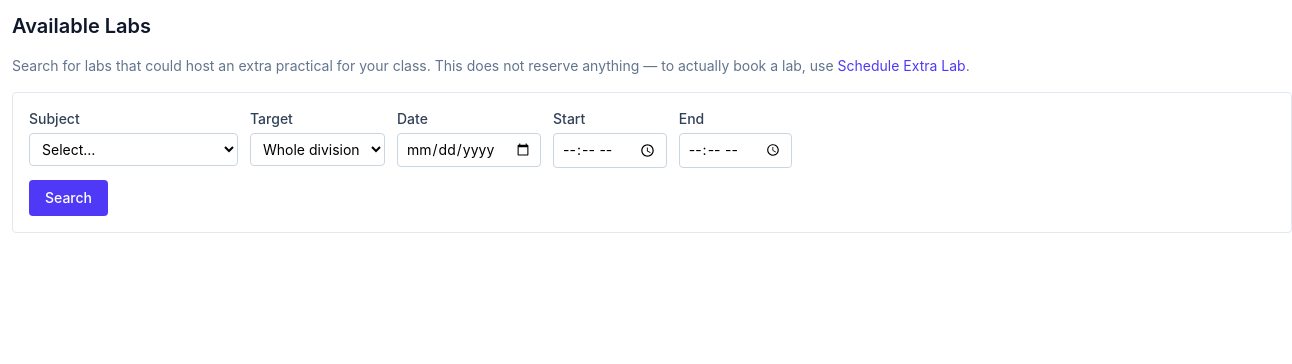
AvailableLabsPage - PART 61/62/63/64/65 (mandatory scenarios) › PART 65 - explains a same-lab conflict with an existing booking
Select "BDA — Big Data Analytics" in the dropdown labelled "Subject": x=134, y=150 [29, 133, 238, 166]
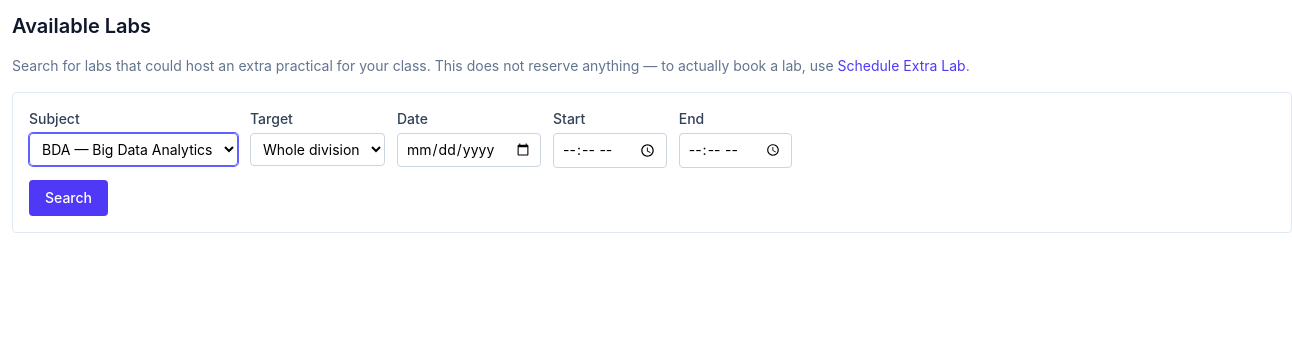
In the date field labelled "Date": x=469, y=150 [397, 133, 541, 167], type "2026-08-31"
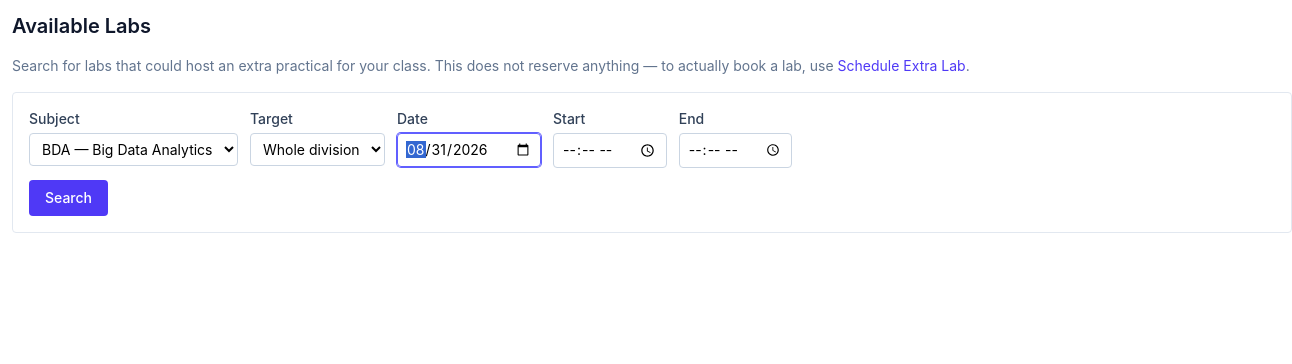
In the time field labelled "Start": x=610, y=150 [553, 133, 667, 168], type "09:00"
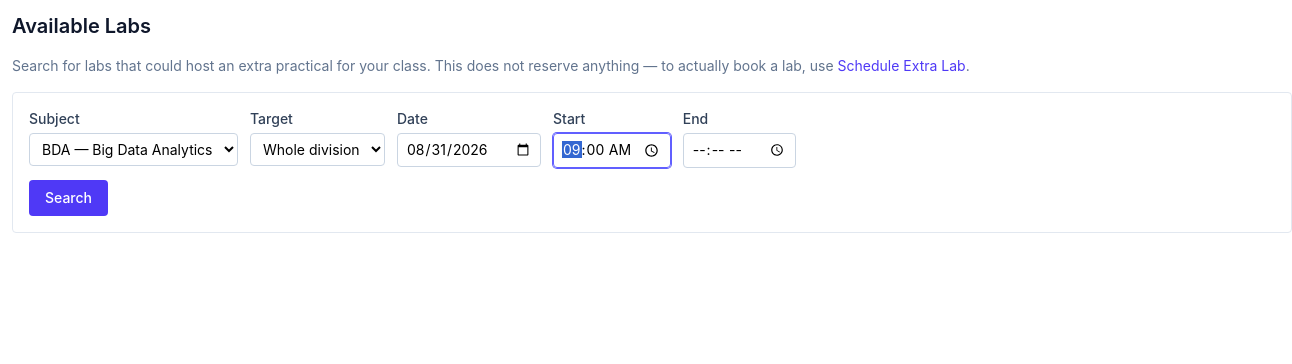
In the time field labelled "End": x=740, y=150 [683, 133, 796, 168], type "11:00"
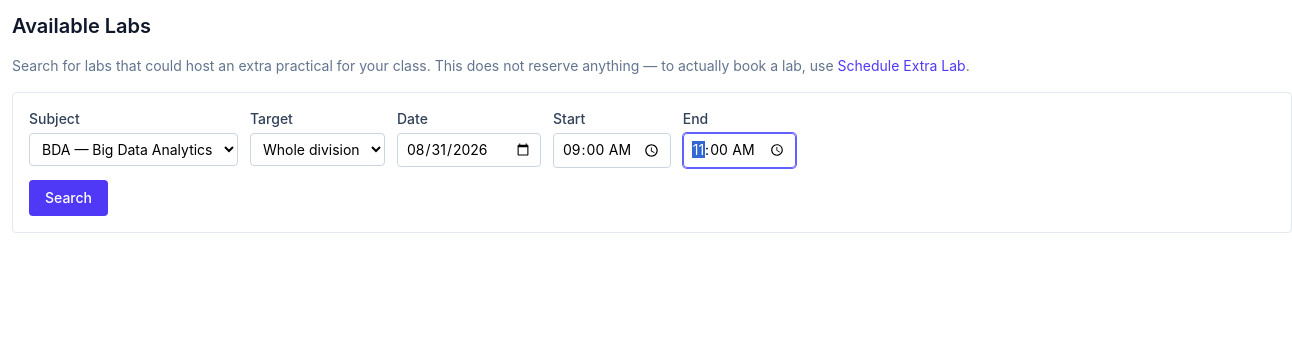
Click the button "Search": x=68, y=198 [29, 180, 108, 216]
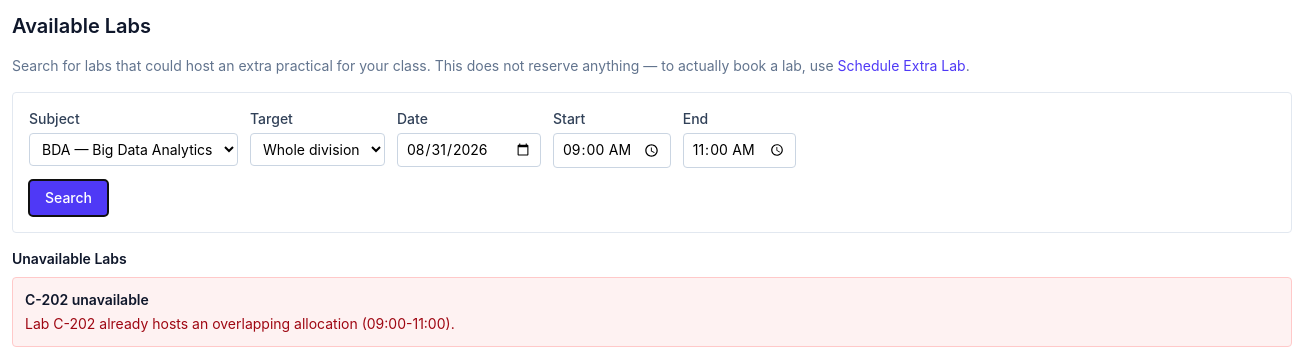
Expected: the list item "already hosts an overlapping allocation" is shown, [25, 315, 455, 332]
